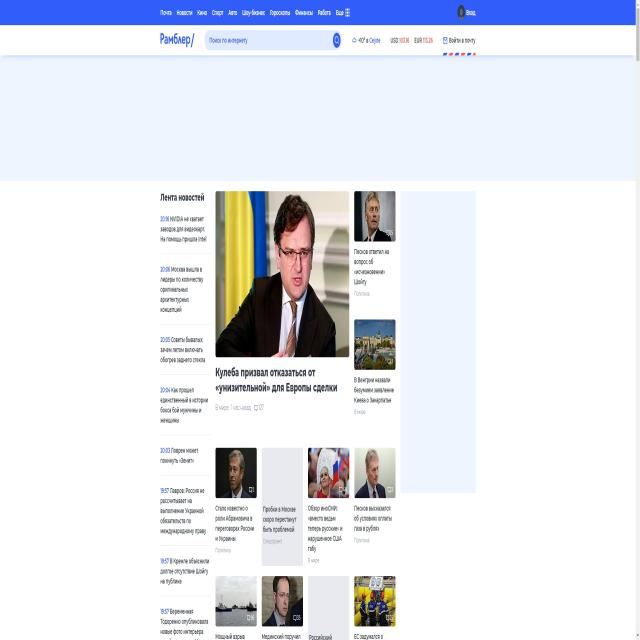menu-bar: (160, 5, 353, 24)
search: (205, 29, 344, 49)
